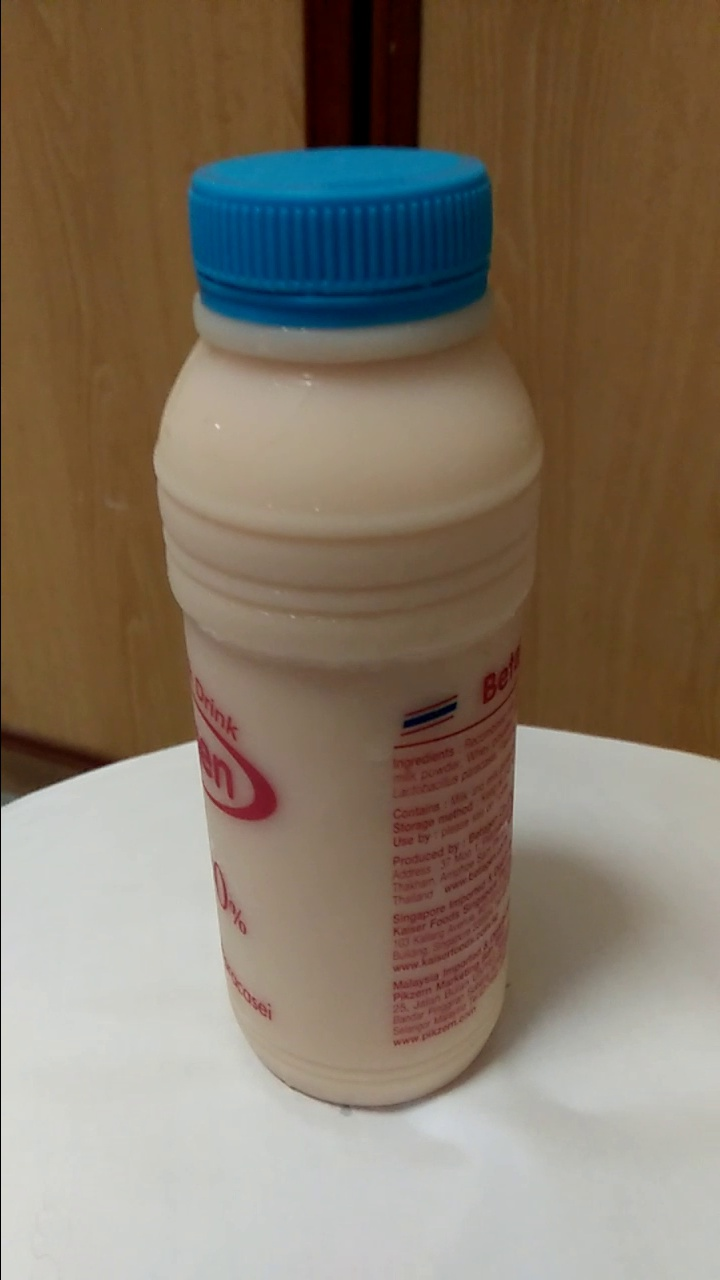mlik2: (168, 151, 517, 1106)
